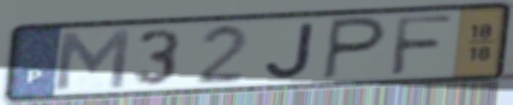2: (194, 23, 254, 87)
3: (132, 27, 183, 87)
F: (386, 13, 456, 78)
J: (263, 20, 318, 81)
M: (52, 26, 134, 92)
P: (319, 15, 389, 82)
